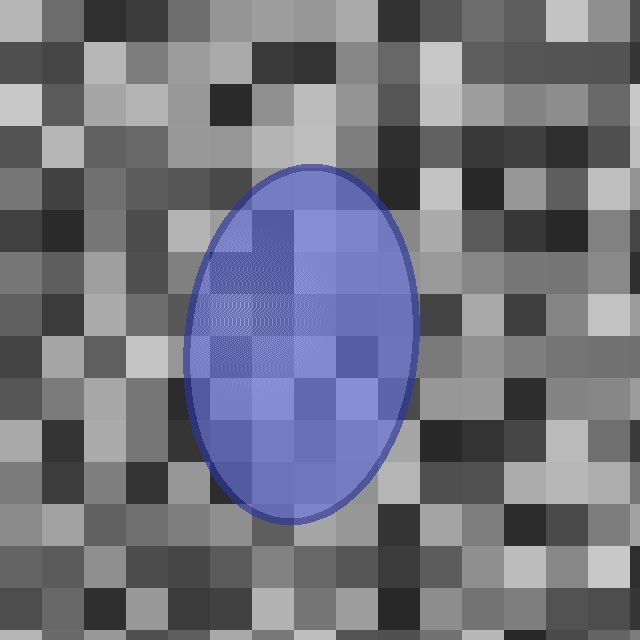lens: (187, 167, 415, 521)
